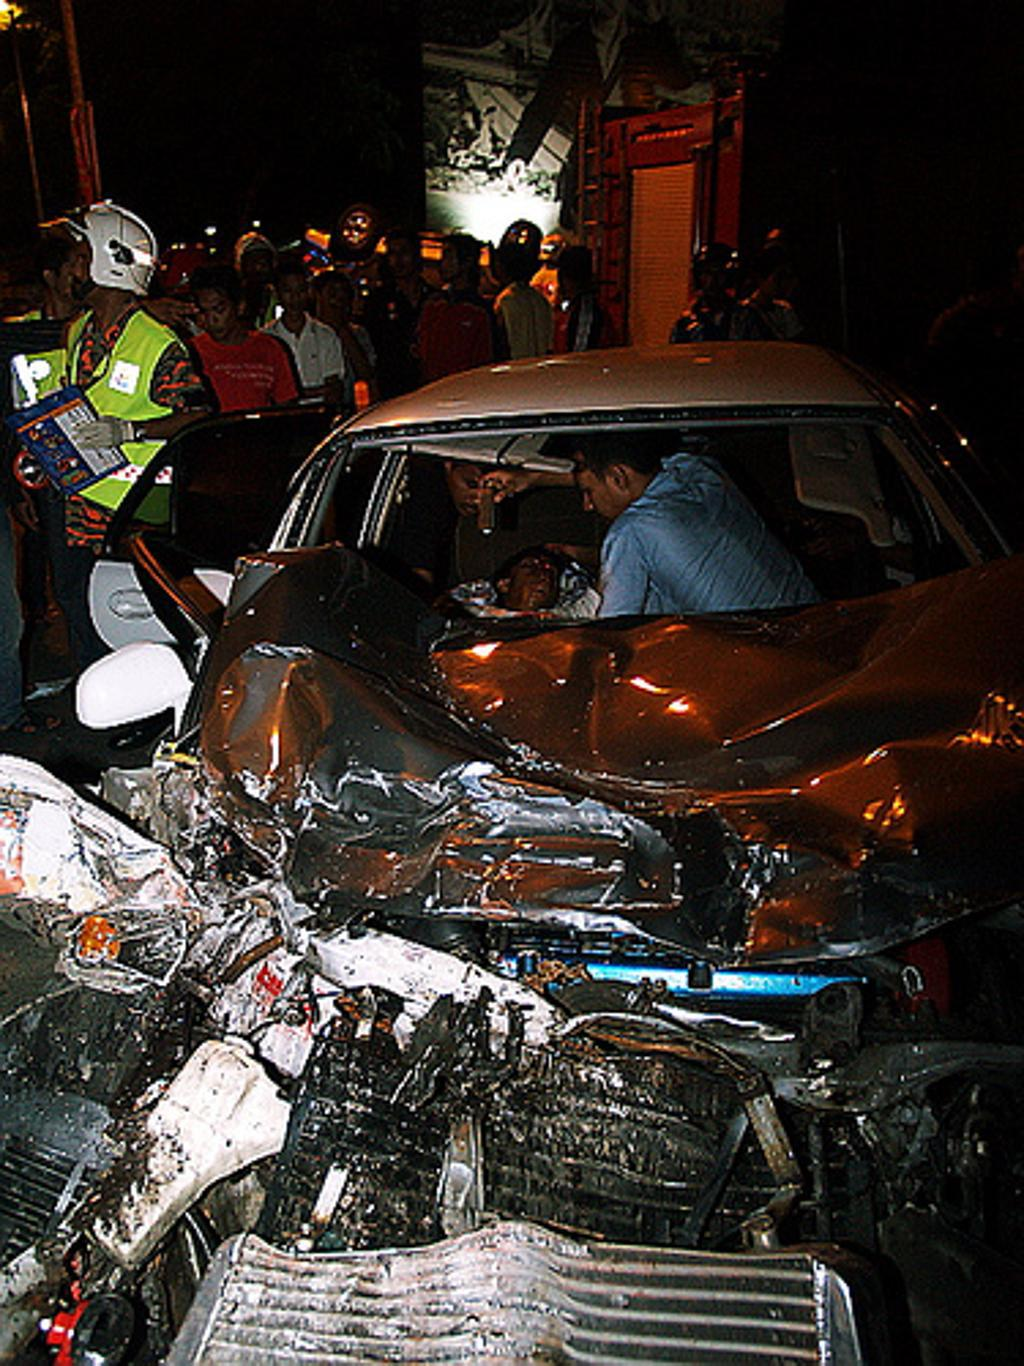face: (509, 554, 552, 611), (581, 473, 628, 525), (72, 238, 105, 300), (57, 255, 93, 307), (198, 291, 234, 341), (324, 287, 351, 323), (282, 280, 308, 316), (389, 241, 414, 279), (441, 245, 465, 280), (700, 268, 722, 298), (560, 263, 580, 297), (771, 264, 791, 291), (251, 259, 270, 281)
